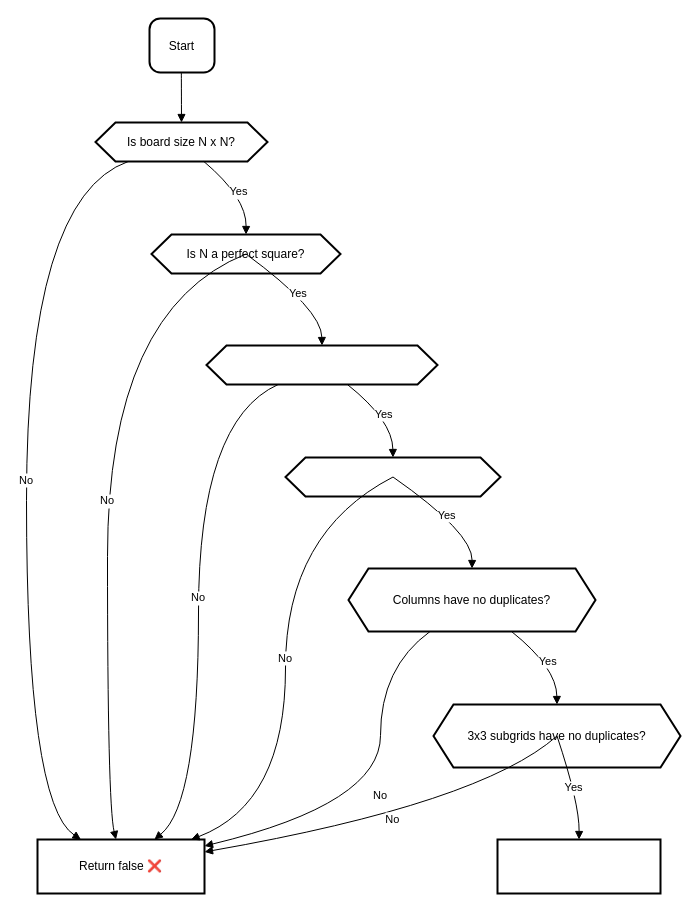
This 698x911 diagram has some shape labels left out. The centre of each missing label's shape, as x and y in pixels:
"All characters are 1–9 or '-'?" belongs at point 321,364.
"Return true ✅" belongs at point 578,866.
"Rows have no duplicates?" belongs at point 392,476.
